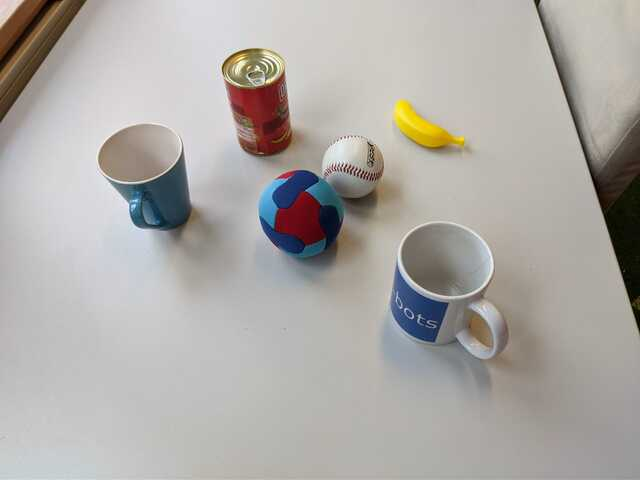005_tomato_soup_can: (213, 42, 305, 161)
011_banana: (390, 92, 468, 156)
025_mug: (391, 216, 511, 366), (93, 116, 202, 236)
055_baseball: (319, 132, 386, 200)
057_racquetball: (255, 168, 347, 260)
